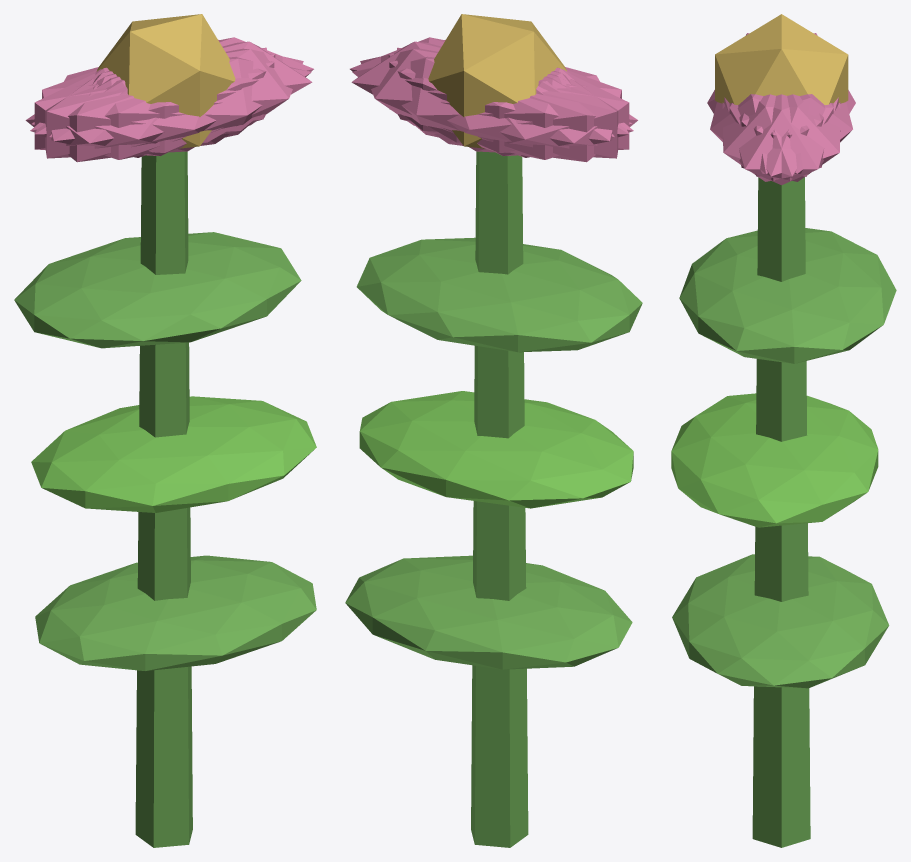
File: justicia-comata.glb
The picture shows the model from 3 angles, left to right: view 1: azimuth 30°, elevation 25°; view 2: azimuth 150°, elevation 25°; view 3: azimuth 270°, elevation 25°; orthographic projection.
Parts seen in each view (by area): view 1: stem, leaf1, leaf2, leaf0, center, petal1, petal6, petal2, petal5, petal7, petal0, petal4 (+2 smaller); view 2: stem, leaf2, leaf0, leaf1, center, petal8, petal3, petal7, petal4, petal2, petal0, petal5 (+2 smaller); view 3: stem, leaf2, leaf0, leaf1, center, petal0, petal5, petal4, petal8, petal1.
Part boxes in pixels (x1,y1,x2,y2): stem: [135, 151, 192, 847]; leaf1: [31, 396, 316, 512]; leaf2: [14, 232, 301, 348]; leaf0: [35, 555, 316, 670]; center: [96, 14, 235, 148]; petal1: [30, 56, 311, 159]; petal6: [25, 69, 229, 162]; petal2: [45, 47, 266, 158]; petal5: [49, 48, 303, 152]; petal7: [34, 53, 275, 156]; petal0: [96, 41, 312, 142]; petal4: [31, 37, 313, 134]; stem: [471, 151, 528, 847]; leaf2: [356, 237, 642, 352]; leaf0: [345, 555, 632, 669]; leaf1: [359, 391, 633, 508]; center: [428, 14, 566, 148]; petal8: [352, 56, 633, 159]; petal3: [434, 69, 637, 162]; petal7: [397, 47, 618, 158]; petal4: [360, 48, 614, 152]; petal2: [388, 53, 629, 156]; petal0: [351, 41, 567, 142]; petal5: [350, 37, 632, 134]; stem: [752, 177, 810, 847]; leaf2: [679, 228, 896, 363]; leaf0: [672, 554, 889, 688]; leaf1: [671, 393, 878, 527]; center: [715, 14, 848, 104]; petal0: [724, 94, 838, 185]; petal5: [722, 94, 833, 181]; petal4: [729, 94, 840, 181]; petal8: [739, 94, 852, 173]; petal1: [710, 94, 823, 173].
Bounding box in the file's own units: 0.1452 × 0.4073 × 0.1034.
